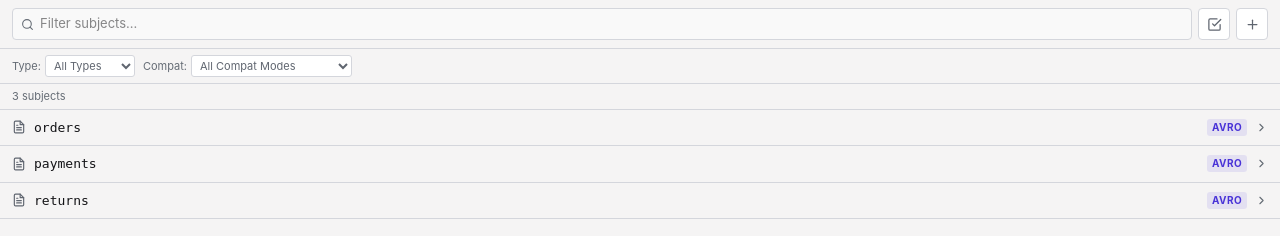
Test: [@phase-12.6-schema-filter] SchemaList — type filter › shows "No subjects match" empty state when filter yields no results
Select "PROTOBUF" in the dropdown named "Filter by schema type" at (90, 66), box [45,55,135,77]
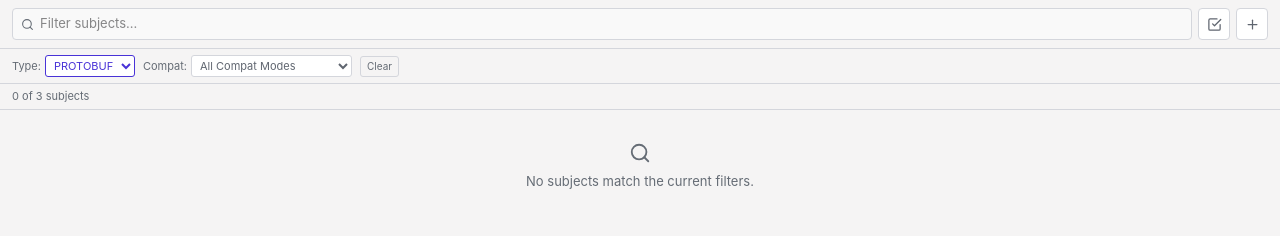
Expected: the text "No subjects match the current filters." is shown, [526,172,754,191]
